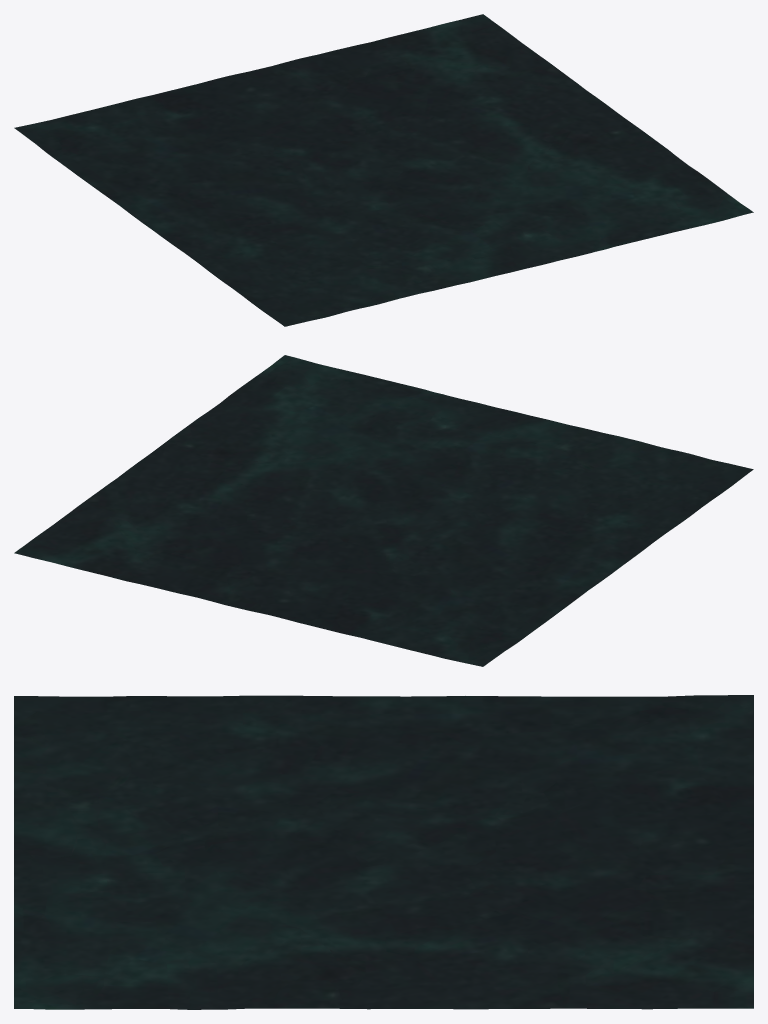
3 views of the same model, one above another, from view 1: azimuth 30°, elevation 25°; view 2: azimuth 150°, elevation 25°; view 3: azimuth 270°, elevation 25° (orthographic). The views are drawn at different scales.
Bounding box in the file's own units: 104 × 0.4784 × 104.
Materials: 2 (2 with a texture image).
